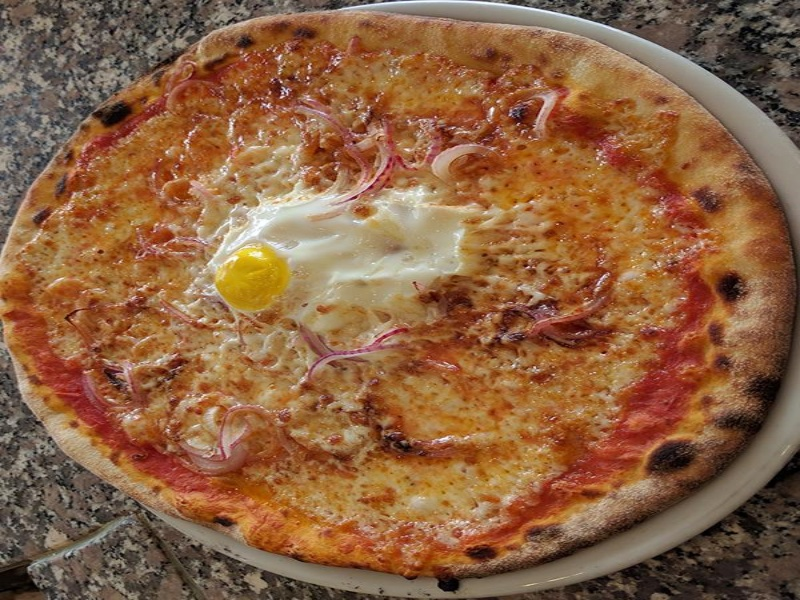oeuf: (208, 237, 317, 327)
